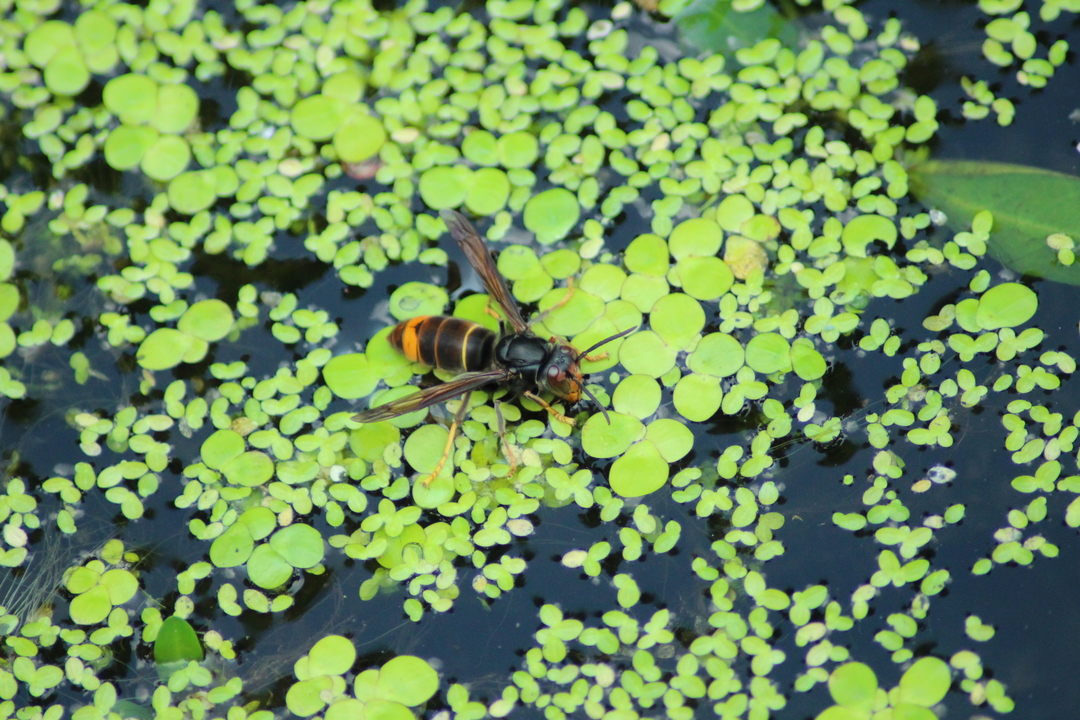hornet: (366, 282, 638, 445)
